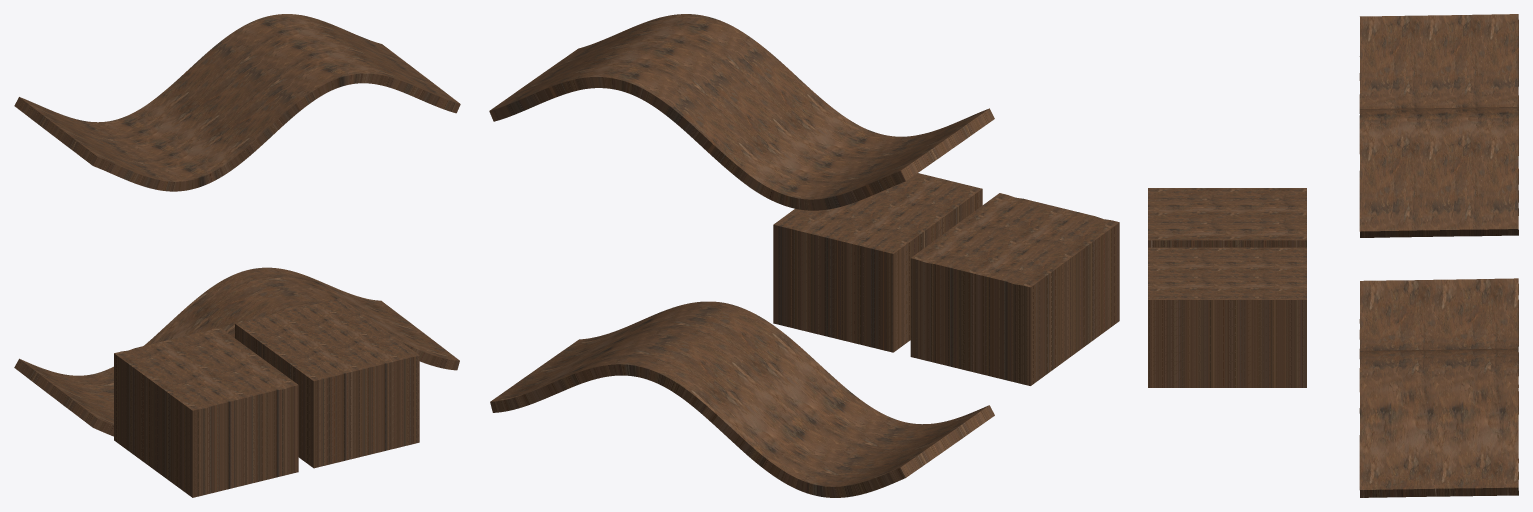
Rendered from folds-faults.glb.
The picture shows the model from 3 angles, left to right: view 1: azimuth 30°, elevation 25°; view 2: azimuth 150°, elevation 25°; view 3: azimuth 270°, elevation 25°; orthographic projection. The views are drawn at different scales.
Parts seen in each view (by area): view 1: Fold_Syncline, Fold_HangingWall, Fold_Footwall, Fold_Anticline; view 2: Fold_Anticline, Fold_Syncline, Fold_HangingWall, Fold_Footwall; view 3: Fold_Syncline, Fold_Anticline, Fold_Footwall, Fold_HangingWall.
Boxes of the visible parts, x1,y1,x2,y2 form: Fold_Syncline: (14,14,460,191); Fold_HangingWall: (114,327,298,497); Fold_Footwall: (235,298,419,468); Fold_Anticline: (14,267,459,436); Fold_Anticline: (490,301,994,497); Fold_Syncline: (489,14,994,210); Fold_HangingWall: (910,193,1119,385); Fold_Footwall: (773,173,982,352); Fold_Syncline: (1359,14,1518,237); Fold_Anticline: (1359,278,1518,497); Fold_Footwall: (1148,247,1306,387); Fold_HangingWall: (1148,188,1306,247).
Size of the model in its own units: 4.93 by 4.13 by 4.2.
Materials: 2 (2 with a texture image).
